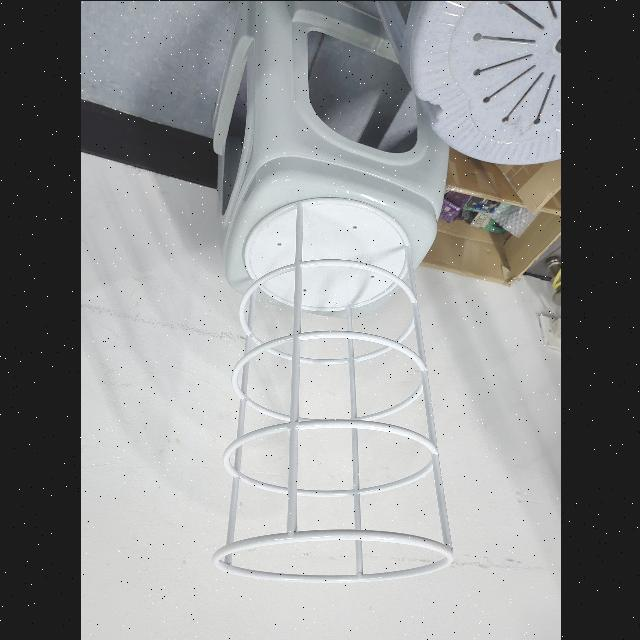S: (208, 192, 454, 586)
